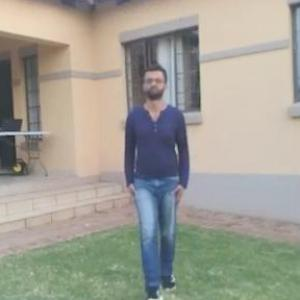follow: (121, 58, 188, 264)
